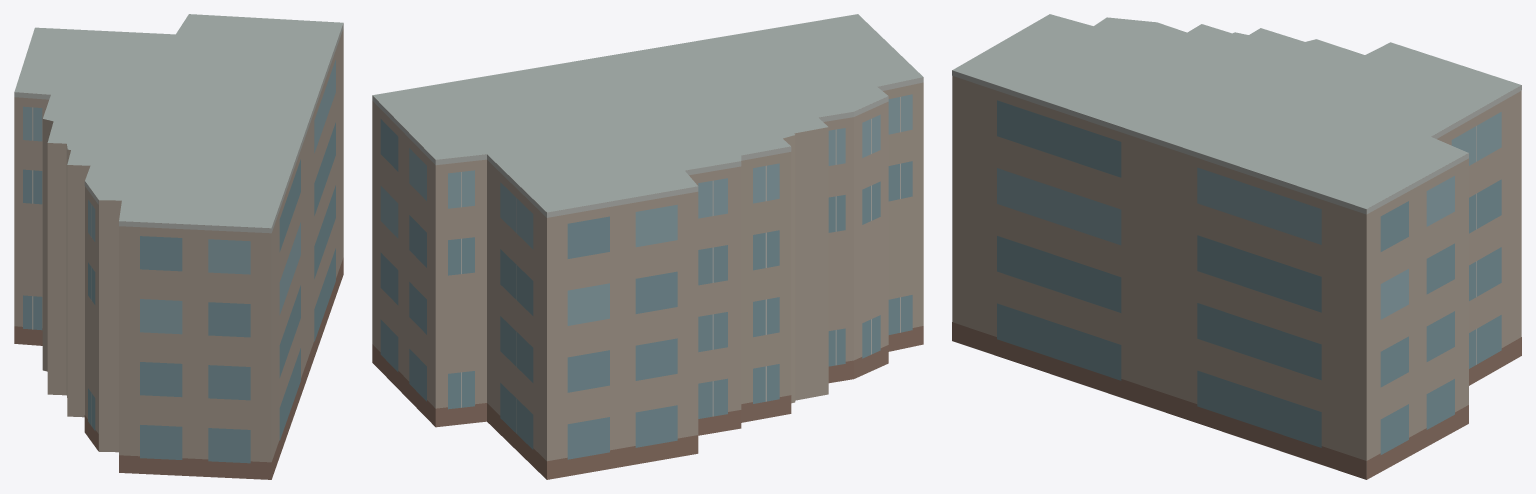
The model's file is survey-upis-32950318.glb.
3 views of the same model, side by side, from view 1: azimuth 30°, elevation 25°; view 2: azimuth 150°, elevation 25°; view 3: azimuth 270°, elevation 25° (orthographic). The views are drawn at different scales.
Visible parts, largest first — view 1: survey-upis-32950318.tmp; view 2: survey-upis-32950318.tmp; view 3: survey-upis-32950318.tmp.
Boxes of the visible parts, box(x1,y1,x2,y2) form: survey-upis-32950318.tmp: box(14, 14, 343, 479); survey-upis-32950318.tmp: box(372, 14, 923, 479); survey-upis-32950318.tmp: box(952, 14, 1521, 479).
Size of the model in its own units: 18.87 by 12.2 by 23.27.
